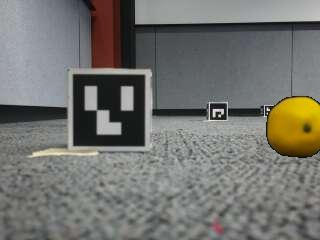lemon: (269, 96, 320, 157)
